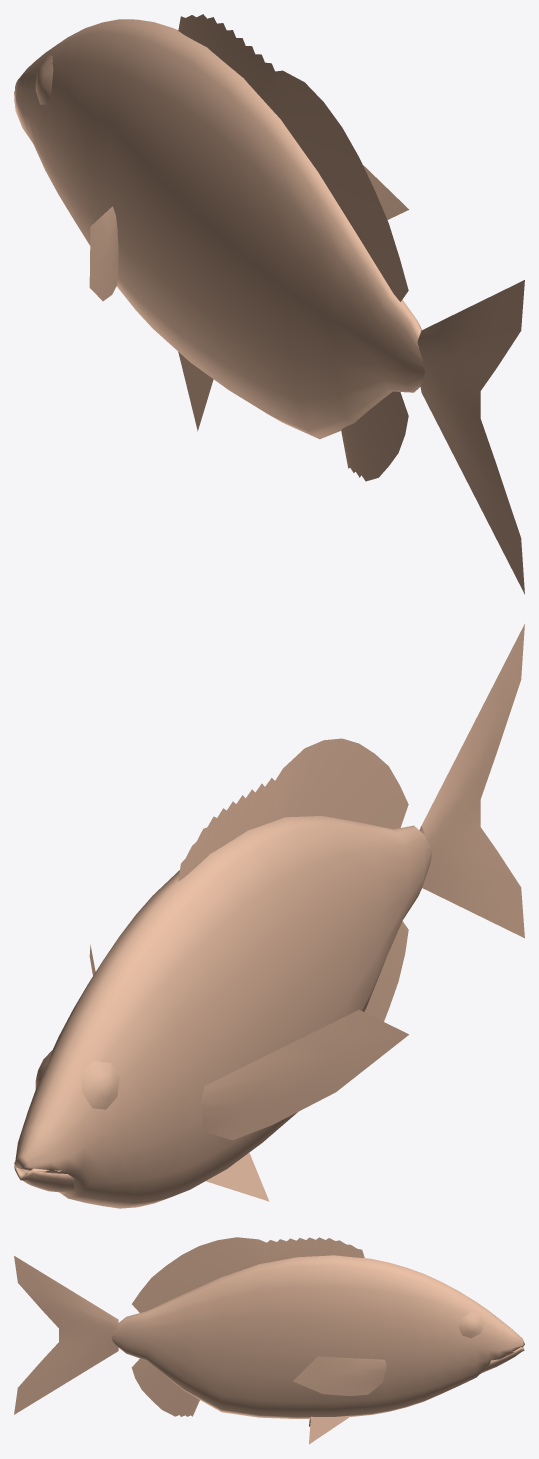
File: surfperch_lo.glb
3 renders of one model, top to bottom at view 1: azimuth 30°, elevation 25°; view 2: azimuth 150°, elevation 25°; view 3: azimuth 270°, elevation 25°, orthographic. The views are drawn at different scales.
Parts seen in each view (by area): view 1: surfperch_lo; view 2: surfperch_lo; view 3: surfperch_lo.
Part boxes in pixels (left/top/right/bottom): surfperch_lo: left=14, top=14, right=524, bottom=594; surfperch_lo: left=14, top=624, right=524, bottom=1208; surfperch_lo: left=14, top=1237, right=524, bottom=1444.
Bounding box in the file's own units: 0.1096 × 0.1287 × 0.2999.
